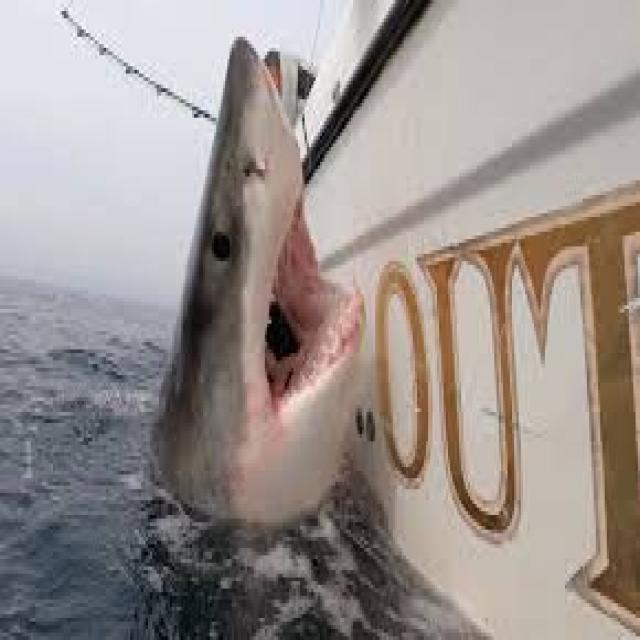shark: (154, 37, 360, 519)
